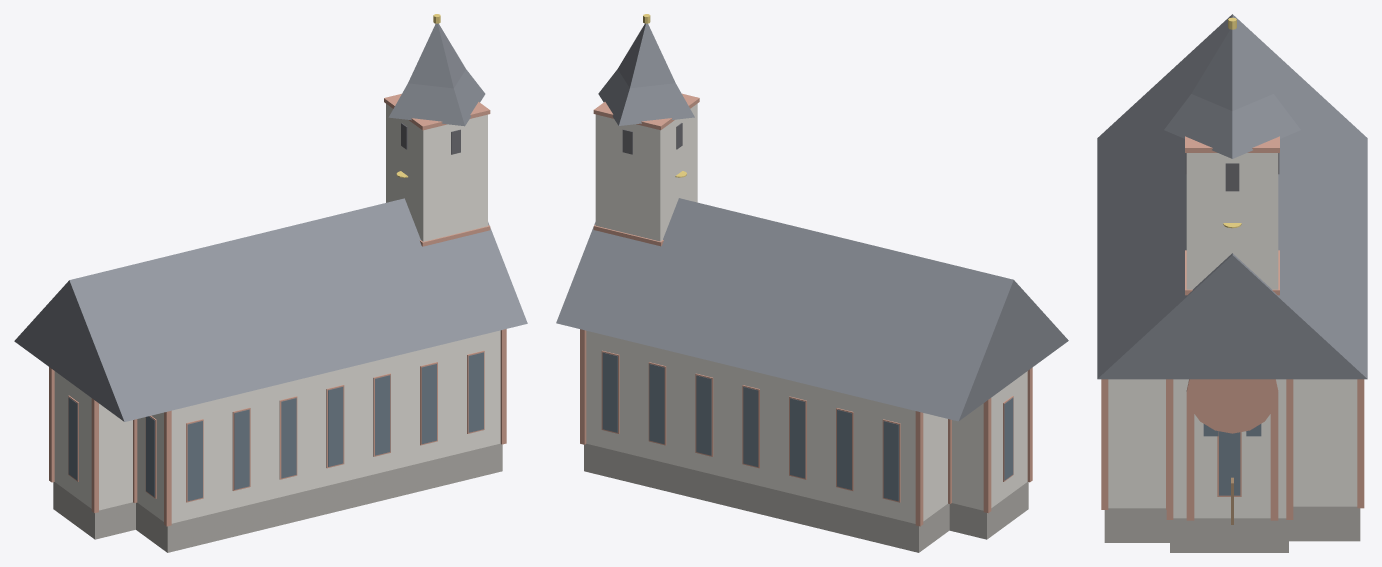
Rendered from kandern-stadtkirche.glb.
3 views of the same model, side by side, from view 1: azimuth 30°, elevation 25°; view 2: azimuth 150°, elevation 25°; view 3: azimuth 270°, elevation 25° (orthographic). The views are drawn at different scales.
Parts seen in each view (by area): view 1: building; view 2: building; view 3: building.
Boxes of the visible parts, x1,y1,x2,y2 form: building: (14, 14, 527, 552); building: (556, 14, 1068, 552); building: (1097, 14, 1367, 552).
Size of the model in its own units: 38.6 by 37.3 by 17.75.
